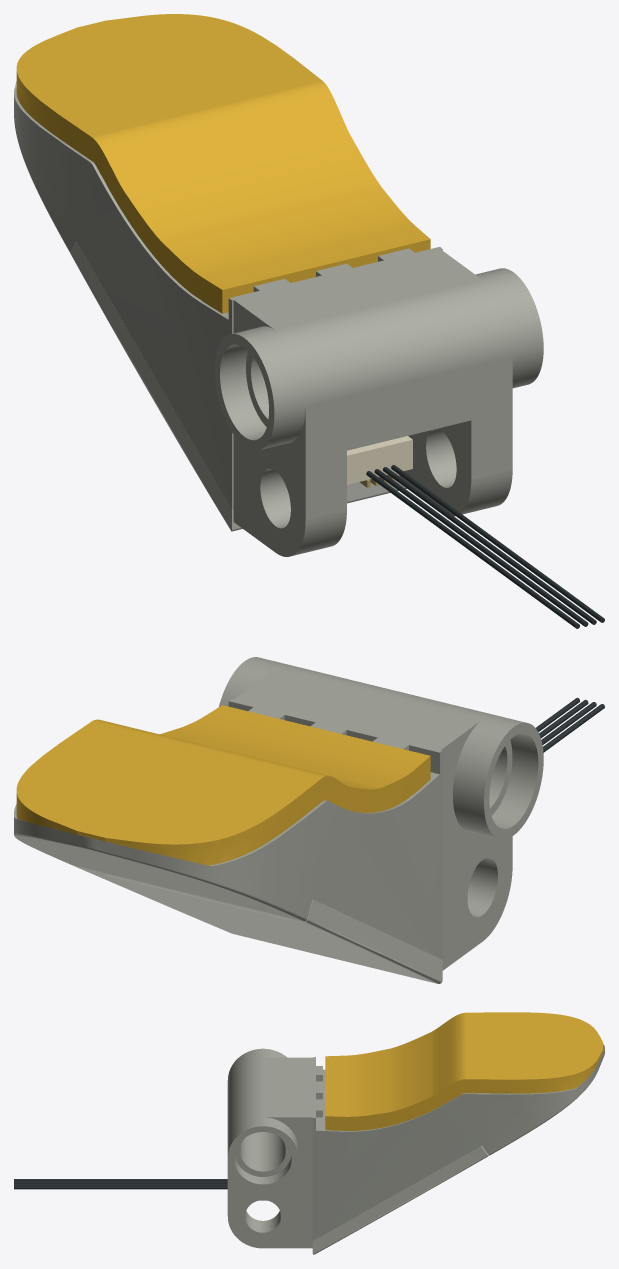
File: gripper-12.glb
The picture shows the model from 3 angles, top to bottom: view 1: azimuth 30°, elevation 25°; view 2: azimuth 150°, elevation 25°; view 3: azimuth 270°, elevation 25°; orthographic projection. The views are drawn at different scales.
Visible parts, largest first — view 1: Structural_body, Silicone_cap, Source_cover, Connector_illustrative, Wire_2_illustrative, Wire_4_illustrative, Wire_1_illustrative, Wire_3_illustrative; view 2: Structural_body, Silicone_cap, Source_cover, Wire_1_illustrative; view 3: Structural_body, Silicone_cap, Source_cover, Wire_4_illustrative, Wire_1_illustrative, Wire_2_illustrative, Wire_3_illustrative.
Part boxes in pixels (bbox=[...]): Structural_body: bbox=[14, 81, 543, 556]; Silicone_cap: bbox=[16, 14, 430, 313]; Source_cover: bbox=[70, 240, 406, 531]; Connector_illustrative: bbox=[347, 436, 412, 484]; Wire_2_illustrative: bbox=[374, 469, 588, 626]; Wire_4_illustrative: bbox=[391, 465, 604, 622]; Wire_1_illustrative: bbox=[366, 471, 579, 628]; Wire_3_illustrative: bbox=[383, 467, 596, 624]; Structural_body: bbox=[14, 657, 543, 970]; Silicone_cap: bbox=[16, 705, 430, 865]; Source_cover: bbox=[72, 865, 442, 983]; Wire_1_illustrative: bbox=[543, 704, 604, 752]; Structural_body: bbox=[227, 1044, 604, 1248]; Silicone_cap: bbox=[325, 1012, 602, 1130]; Source_cover: bbox=[312, 1145, 488, 1254]; Wire_4_illustrative: bbox=[14, 1186, 227, 1189]; Wire_1_illustrative: bbox=[14, 1179, 227, 1181]; Wire_2_illustrative: bbox=[14, 1181, 227, 1183]; Wire_3_illustrative: bbox=[14, 1183, 227, 1185].
Size of the model in its own units: 0.026 by 0.0279 by 0.0837.
